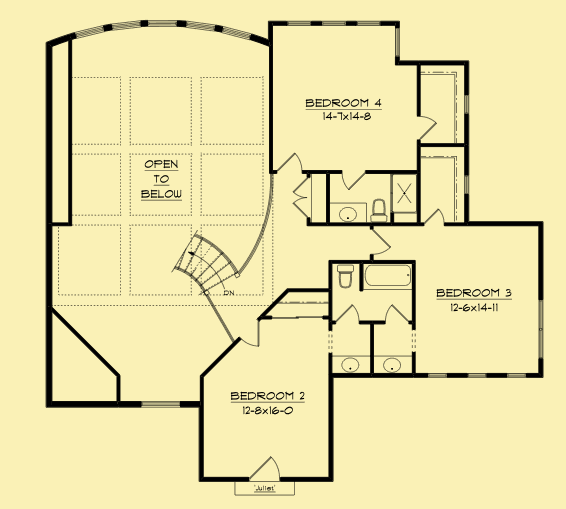door: (244, 456, 284, 482), (291, 174, 313, 219), (237, 317, 264, 350), (380, 301, 408, 326), (412, 115, 438, 141), (342, 168, 369, 191), (422, 206, 445, 230), (335, 303, 361, 323), (278, 153, 301, 174)
large sink: (369, 197, 392, 226), (334, 262, 357, 289)
small sink: (371, 354, 413, 378), (329, 203, 368, 226), (330, 354, 370, 376)
stairs: (170, 229, 242, 297)
tub: (359, 259, 413, 294)
windows: (72, 16, 253, 46), (282, 17, 385, 30), (421, 370, 530, 380), (534, 296, 547, 359), (138, 395, 185, 412), (391, 23, 402, 57), (460, 169, 473, 196), (462, 86, 472, 119)
